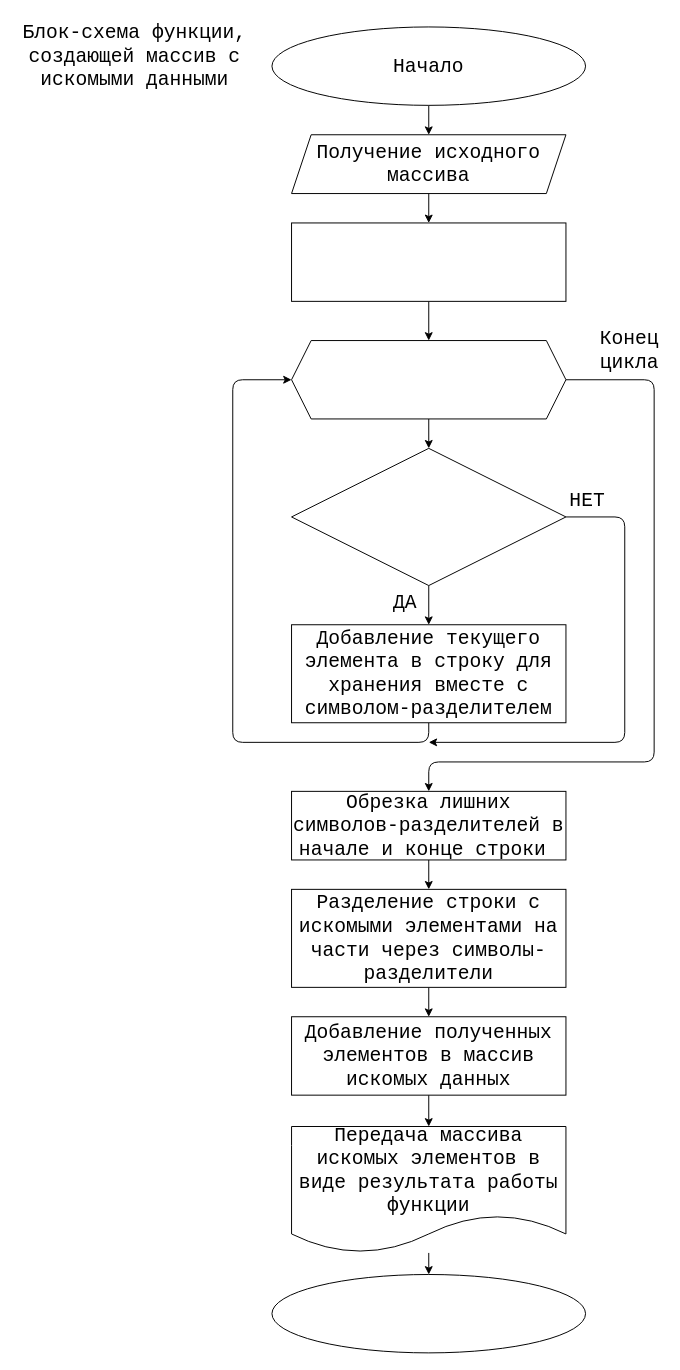
Image size: 680x1370. Some labels were removed from this diagram. Here are the shapes that lost their labels. From the top down, the box of each, then its label:
(291, 222, 566, 301): Создание переменной для хранения искомых элементов
(291, 340, 566, 419): Цикл for для всех элементов исходного массива
(291, 447, 566, 586): Длина текущего элемента меньше 4 символов?
(271, 1274, 586, 1353): Конец
